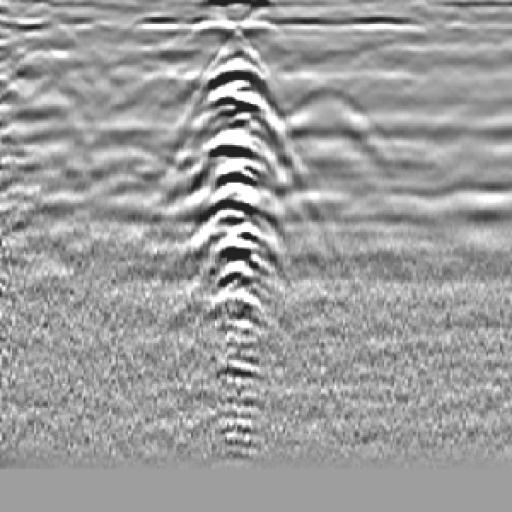metalic: (197, 39, 283, 460)
nonmetalic: (273, 86, 421, 201)
